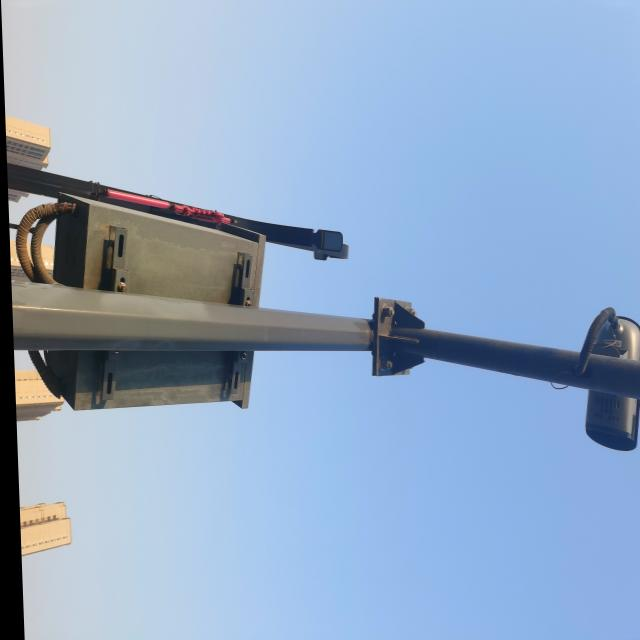Regular bolt: (381, 361, 390, 371), (384, 307, 392, 318), (380, 307, 387, 318), (377, 359, 383, 370), (116, 284, 124, 292), (406, 310, 415, 316), (238, 353, 244, 361), (243, 302, 250, 308)
